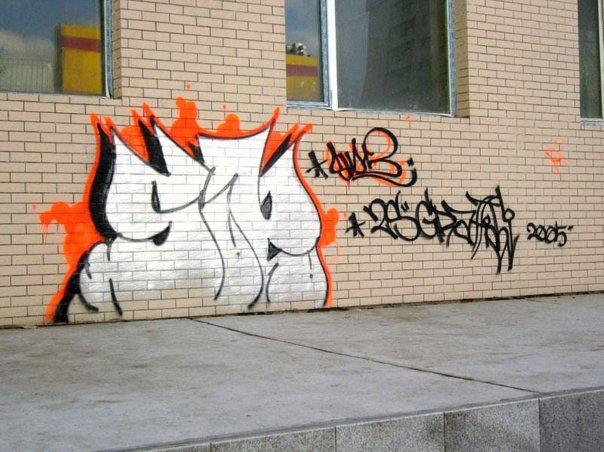graffity: (42, 88, 349, 325), (343, 184, 582, 285), (301, 120, 421, 193)
